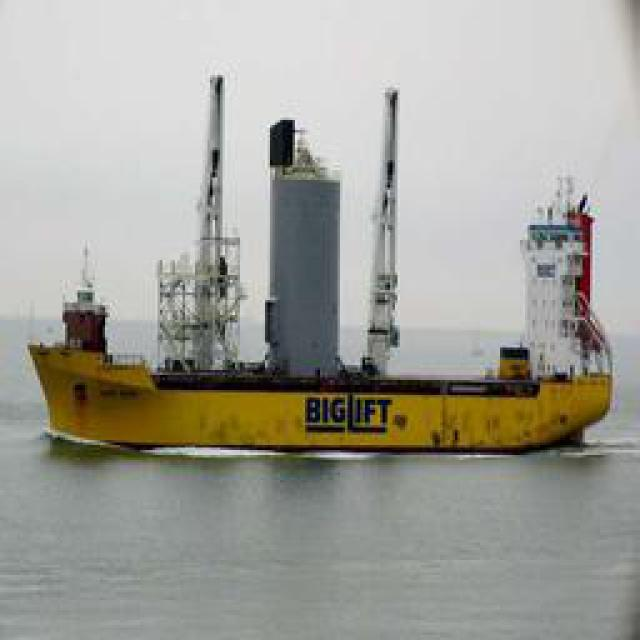Ship: (19, 48, 619, 453)
